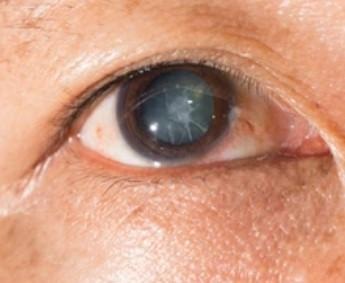eye: (118, 65, 239, 161)
